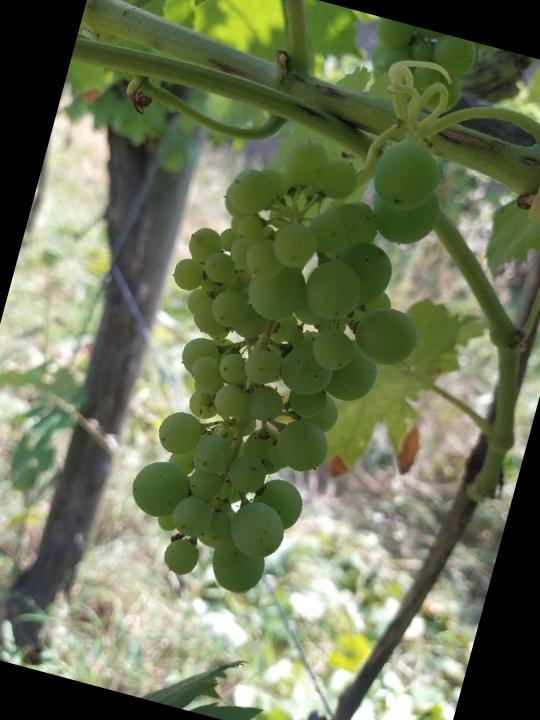grape: (94, 81, 472, 625)
